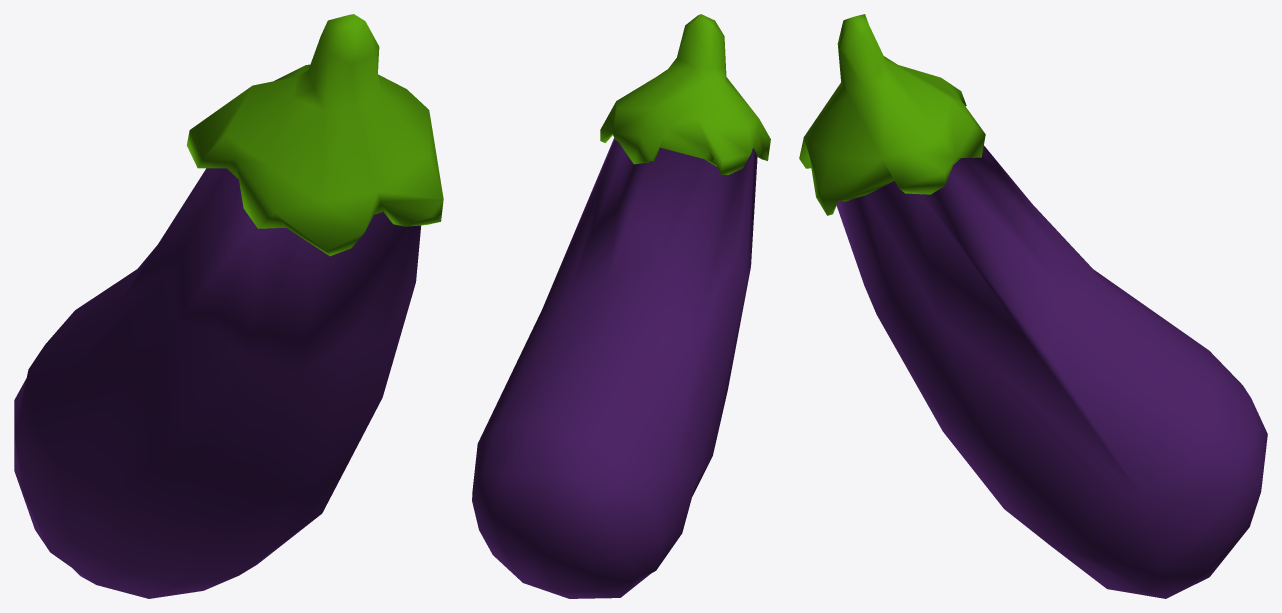
File: terung.fbx
The picture shows the model from 3 angles, left to right: view 1: azimuth 30°, elevation 25°; view 2: azimuth 150°, elevation 25°; view 3: azimuth 270°, elevation 25°; orthographic projection. The views are drawn at different scales.
Visible parts, largest first — view 1: Eggplant.GR_6; view 2: Eggplant.GR_6; view 3: Eggplant.GR_6.
Boxes of the visible parts, x1,y1,x2,y2 form: Eggplant.GR_6: [14, 14, 443, 598]; Eggplant.GR_6: [472, 14, 770, 598]; Eggplant.GR_6: [799, 14, 1267, 598].
Bounding box in the file's own units: 7.79 × 18.74 × 13.95.
